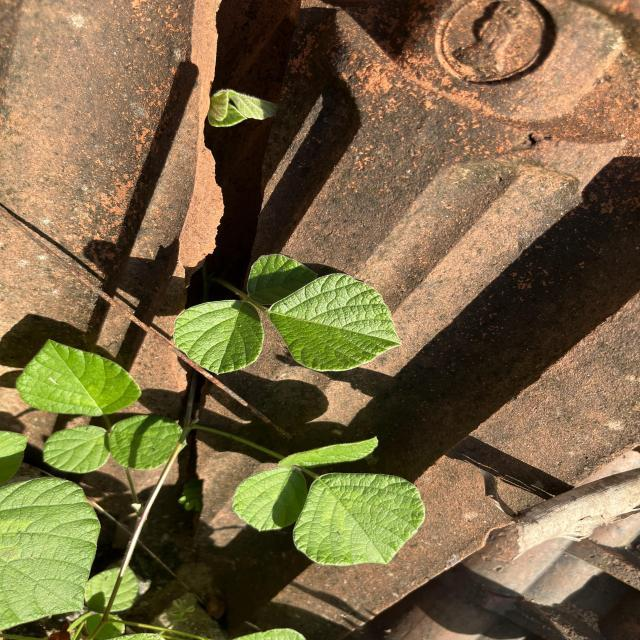Pseudarthria viscida: (171, 250, 406, 374), (230, 433, 430, 568), (12, 336, 189, 474)
